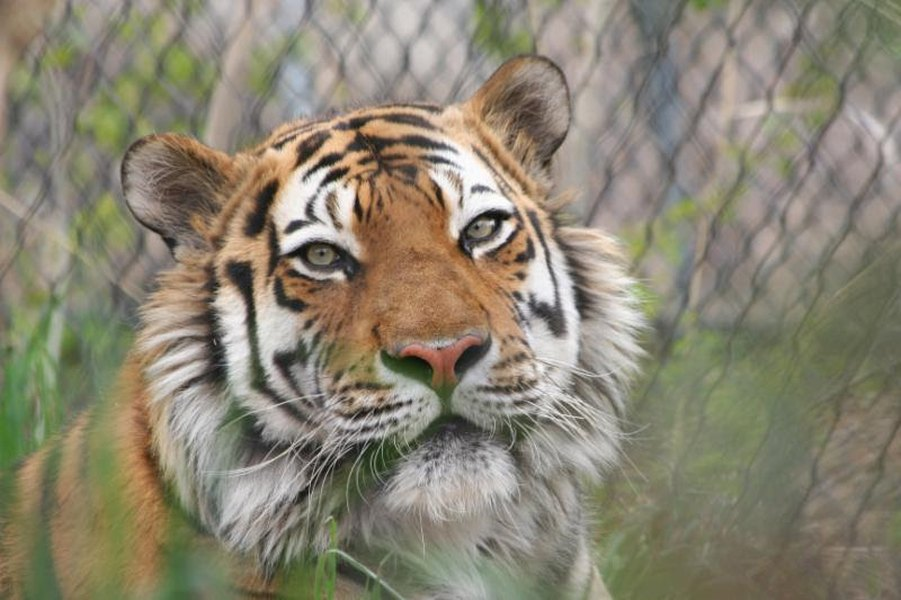Tiger: (80, 72, 656, 600)
